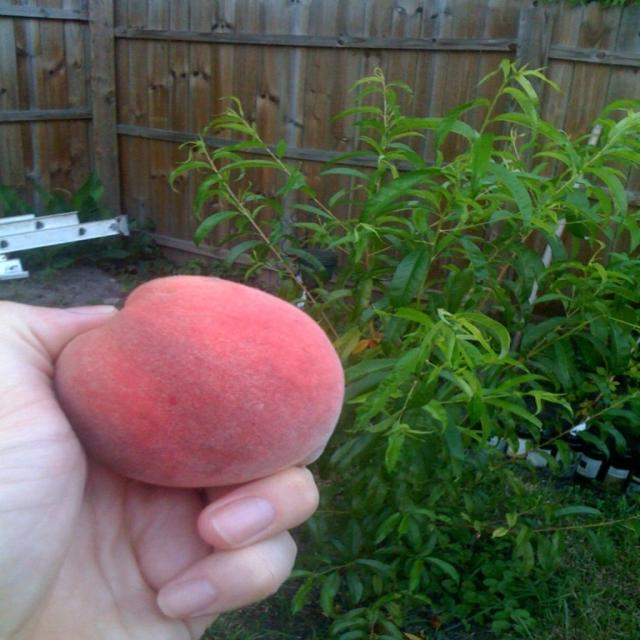Peach: (52, 274, 347, 490)
